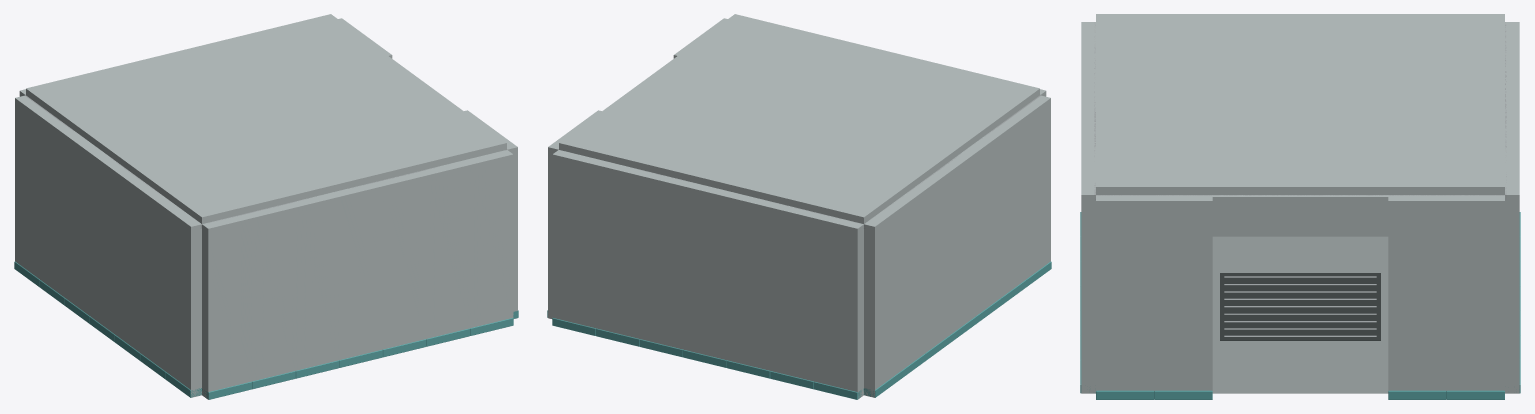
Rendered from environment.glb.
3 views of the same model, side by side, from view 1: azimuth 30°, elevation 25°; view 2: azimuth 150°, elevation 25°; view 3: azimuth 270°, elevation 25° (orthographic). The views are drawn at different scales.
Parts seen in each view (by area): view 1: ward-start authored environment; view 2: ward-start authored environment; view 3: ward-start authored environment.
Part boxes in pixels (<box>): ward-start authored environment: <box>14,14,518,399</box>; ward-start authored environment: <box>547,14,1051,399</box>; ward-start authored environment: <box>1080,14,1520,399</box>.
Bounding box in the file's own units: 15.06 × 7.8 × 15.06.
